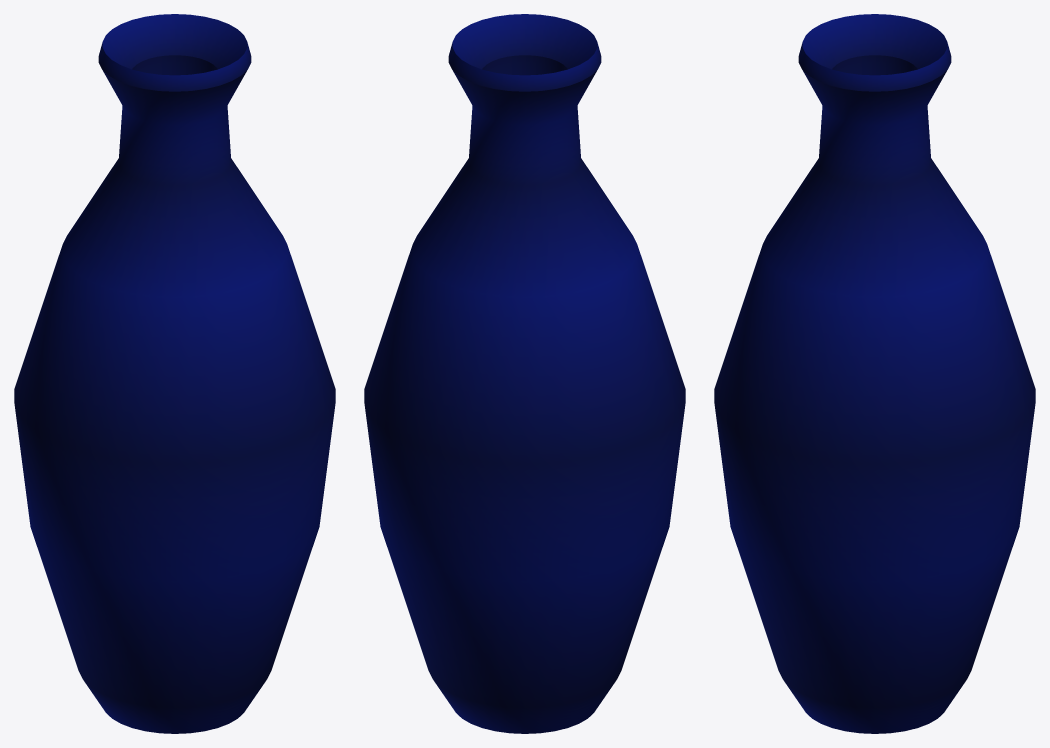
Rendered from ap-vase-cobalt.glb.
3 views of the same model, side by side, from view 1: azimuth 30°, elevation 25°; view 2: azimuth 150°, elevation 25°; view 3: azimuth 270°, elevation 25° (orthographic).
Parts seen in each view (by area): view 1: vase__lacquer; view 2: vase__lacquer; view 3: vase__lacquer.
Part boxes in pixels (x1,y1,x2,y2): vase__lacquer: [14, 14, 335, 733]; vase__lacquer: [364, 14, 685, 733]; vase__lacquer: [714, 14, 1035, 733].
Bounding box in the file's own units: 0.4 × 0.9 × 0.3978.
